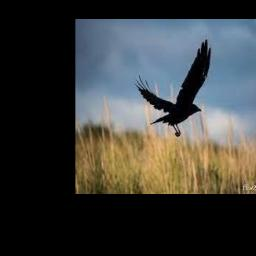Crow: (135, 39, 212, 138)
